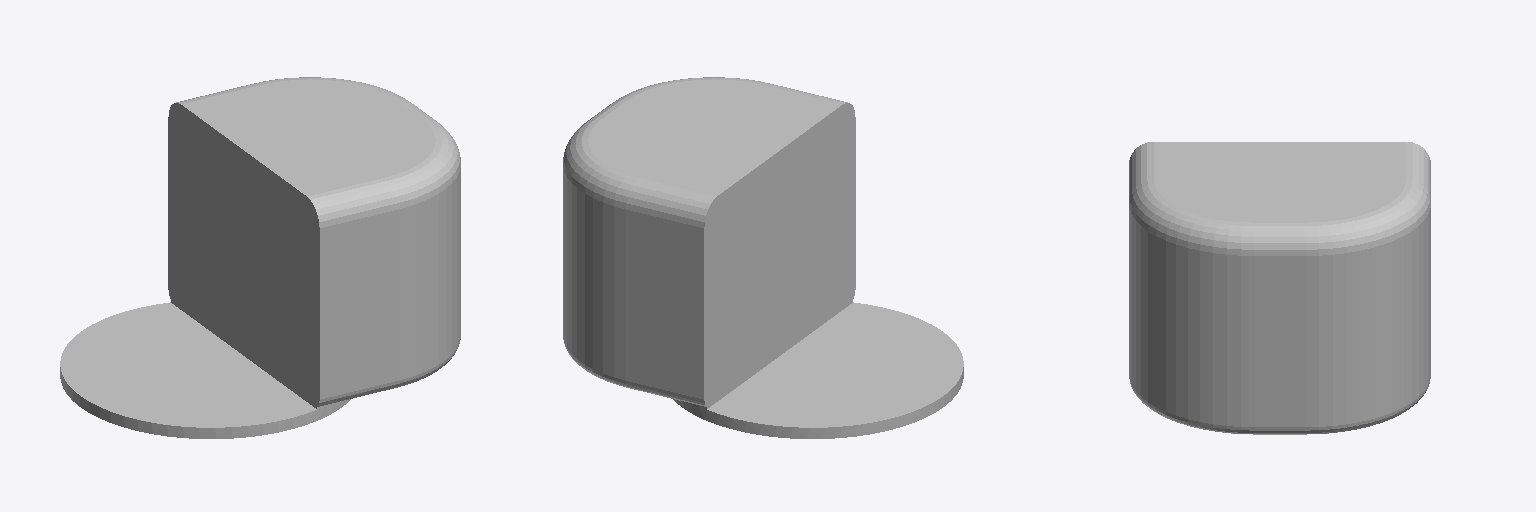
Rendered from shoulder.obj.
3 views of the same model, side by side, from view 1: azimuth 30°, elevation 25°; view 2: azimuth 150°, elevation 25°; view 3: azimuth 270°, elevation 25° (orthographic).
Visible parts, largest first — view 1: link1; view 2: link1; view 3: link1.
Part boxes in pixels (bbox=[...]): link1: bbox=[60, 77, 460, 438]; link1: bbox=[563, 77, 963, 438]; link1: bbox=[1129, 142, 1430, 434].
Bounding box in the file's own units: 161 × 95 × 120.